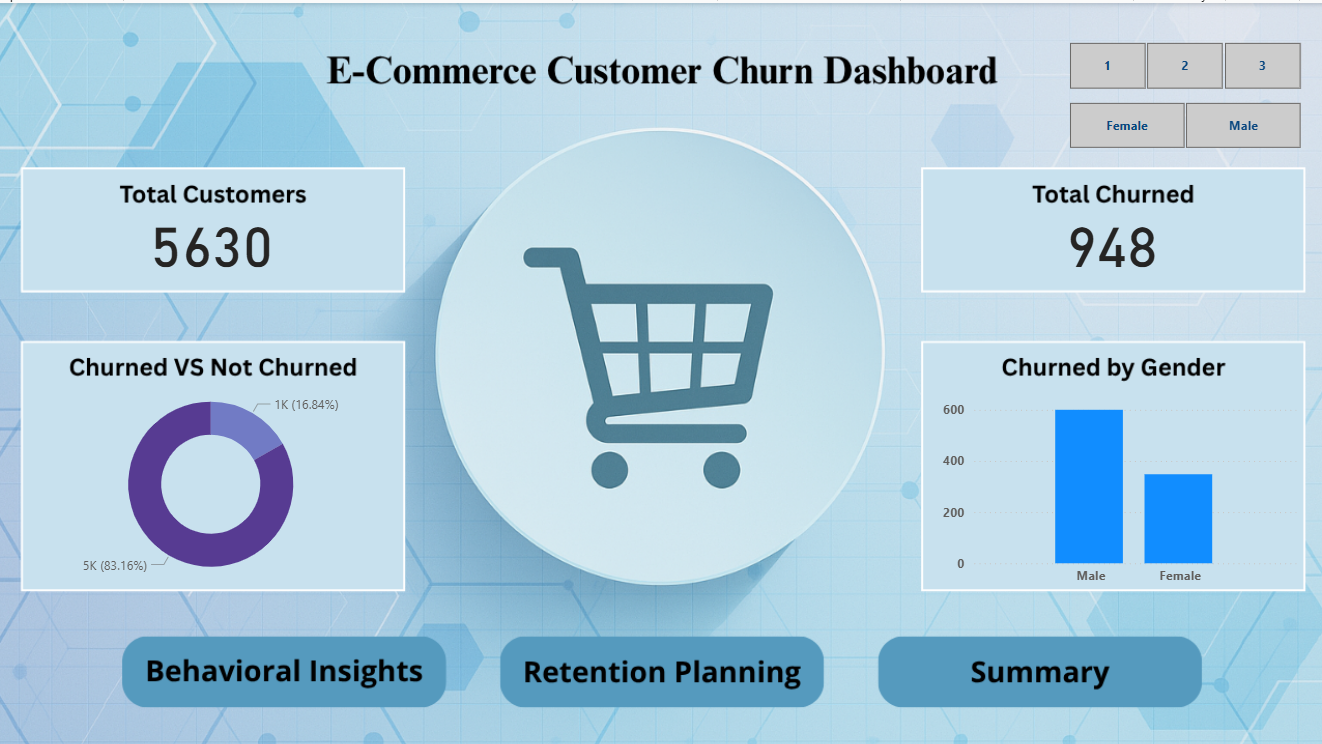

Layout of this report page (visuals, bound fields, positions):
{"tool":"powerbi","page":{"name":"Home","canvas":[1280,720],"ordinal":0},"visuals":[{"type":"actionButton","box":[115.3,612,318.4,65.9],"z":0},{"type":"actionButton","box":[480.3,612,318.4,65.9],"z":1000},{"type":"actionButton","box":[845.3,612,318.4,65.9],"z":2000},{"type":"card","fields":{"Values":["CountNonNull(cleaned_churn_data.CustomerID)"]},"box":[28.8,185.2,351.3,86.4],"z":3000},{"type":"card","fields":{"Values":["cleaned_churn_data.Total Churns"]},"box":[898.8,185.2,351.3,86.4],"z":4000},{"type":"donutChart","fields":{"Y":["cleaned_churn_data.Total Churns","cleaned_churn_data.TotalNotChurnedCustomers"]},"box":[28.8,354,351.3,222.3],"z":5000},{"type":"columnChart","fields":{"Y":["cleaned_churn_data.Total Churns"],"Category":["cleaned_churn_data.Gender"]},"box":[905.7,378.7,351.3,192.1],"z":6000},{"type":"slicer","fields":{"Values":["cleaned_churn_data.Gender"]},"box":[1007.2,89.2,273.1,57.6],"z":7000},{"type":"slicer","fields":{"Values":["cleaned_churn_data.CityTier"]},"box":[1007.4,31.4,272.7,57.9],"z":8000}]}

Visuals, with their boxes in screenshot pixels (x1, y1, x2, y2), scaled from the page's 1280x720 canvas onto the 1322x744 screenshot:
actionButton: 119,632,448,700
actionButton: 496,632,825,700
actionButton: 873,632,1202,700
card - CountNonNull(cleaned_churn_data.CustomerID): 30,191,393,281
card - cleaned_churn_data.Total Churns: 928,191,1291,281
donutChart - cleaned_churn_data.Total Churns x cleaned_churn_data.TotalNotChurnedCustomers: 30,366,393,596
columnChart - cleaned_churn_data.Total Churns x cleaned_churn_data.Gender: 935,391,1298,590
slicer - cleaned_churn_data.Gender: 1040,92,1321,152
slicer - cleaned_churn_data.CityTier: 1040,32,1321,92
